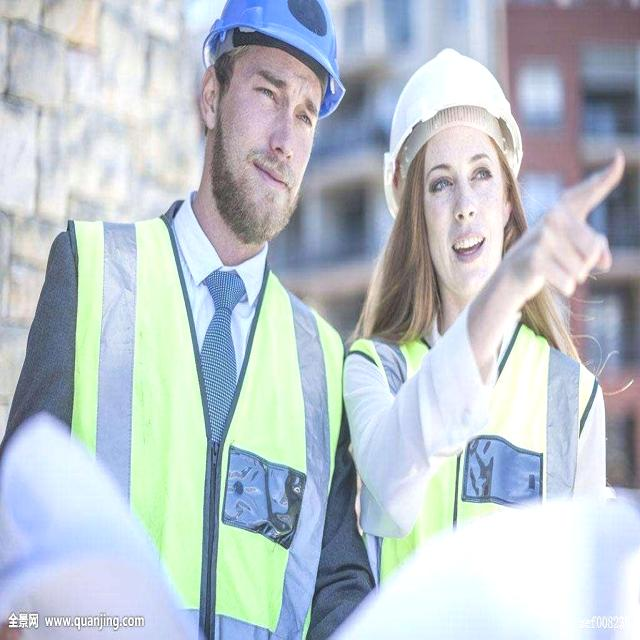face_nomask: (217, 46, 326, 240), (418, 132, 503, 296)
hand_noglove: (500, 160, 625, 307)
head_helmet: (385, 45, 521, 199), (203, 0, 348, 106)
person: (14, 1, 347, 628), (349, 44, 607, 609)
vest: (80, 228, 326, 640), (357, 340, 602, 614)
